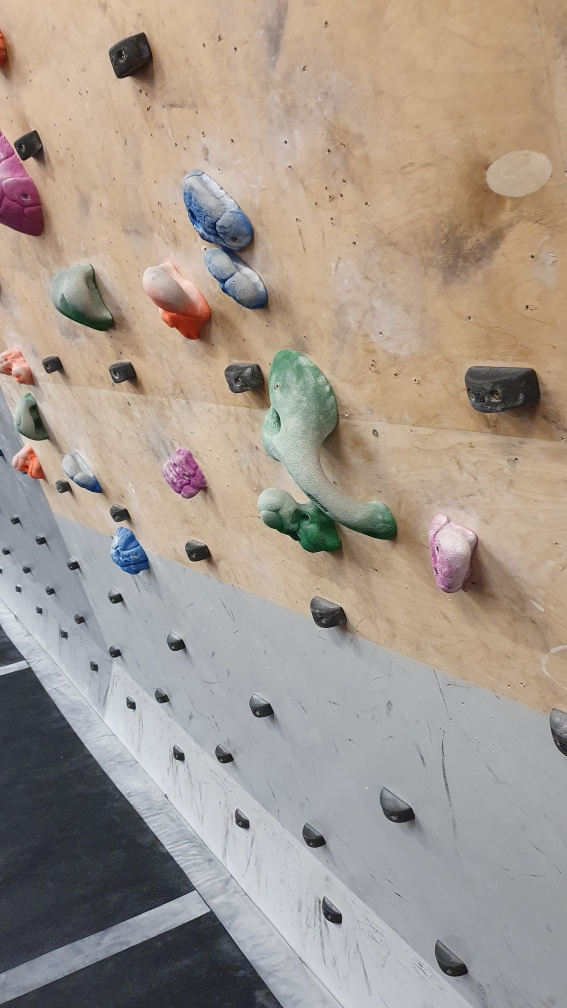Jug: (175, 165, 259, 254), (141, 259, 215, 342), (423, 511, 484, 600), (156, 445, 212, 501)
Pinch: (461, 362, 544, 417), (108, 31, 159, 84), (431, 937, 474, 982), (308, 592, 351, 634), (377, 786, 417, 828), (221, 361, 265, 397), (180, 535, 217, 566), (247, 690, 275, 721)
